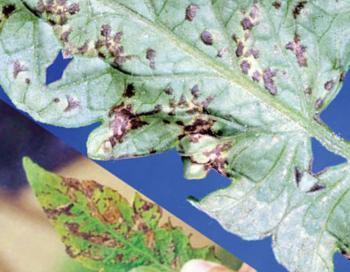Tomato leaf bacterial spot: (29, 0, 350, 266), (0, 126, 239, 272)
